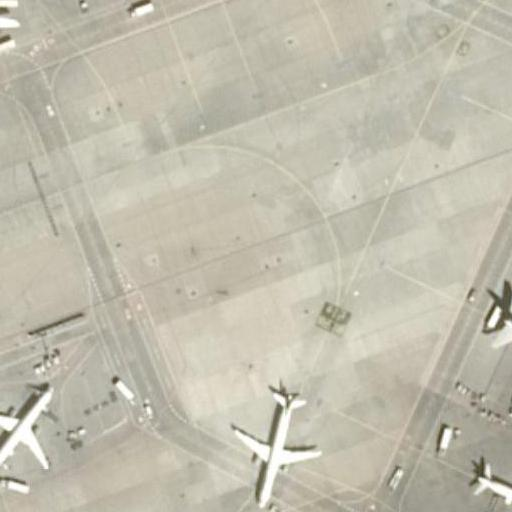Aircraft: (232, 371, 322, 510), (0, 363, 75, 495), (482, 269, 512, 447), (458, 449, 512, 512), (0, 0, 42, 54)
